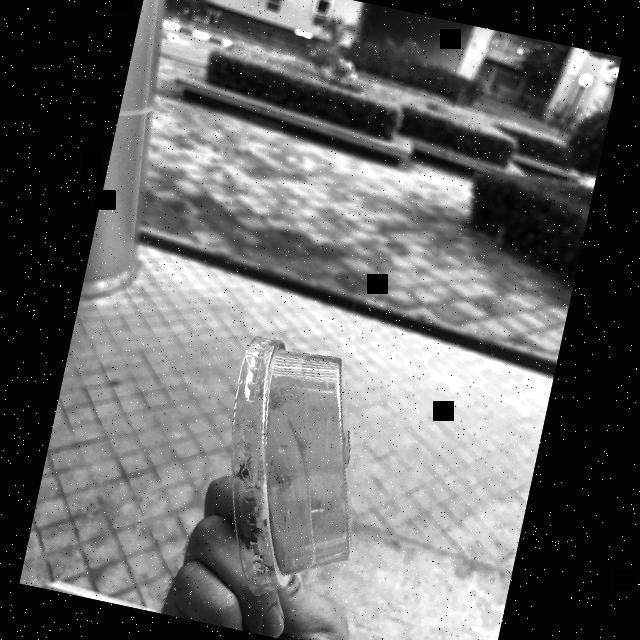plastic_cup_lid: (181, 320, 403, 623)
